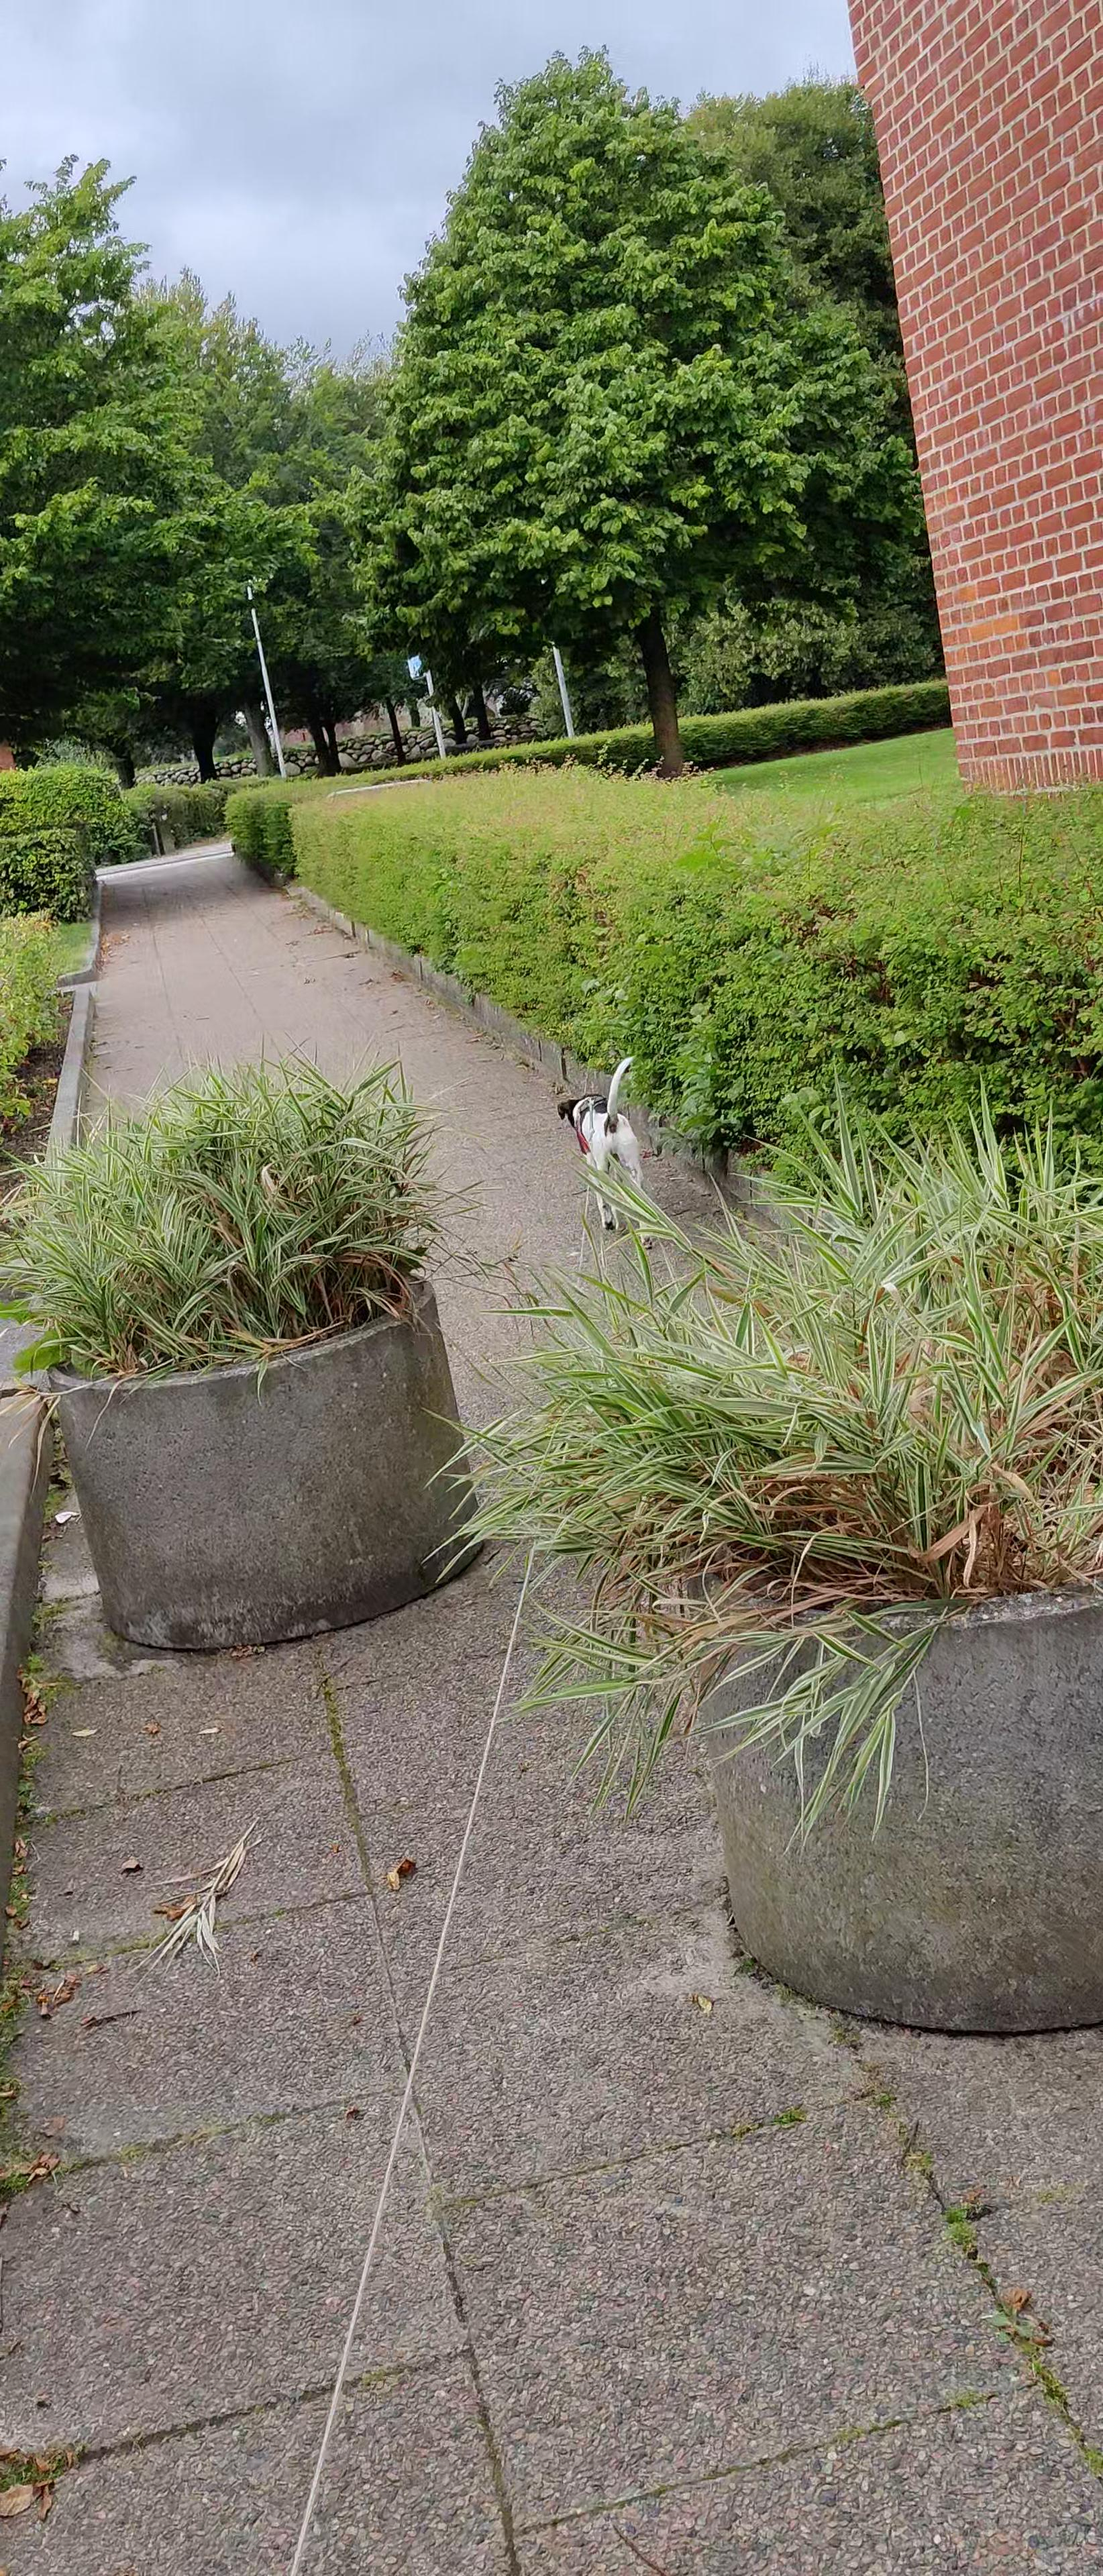Dog: (552, 1051, 656, 1250)
